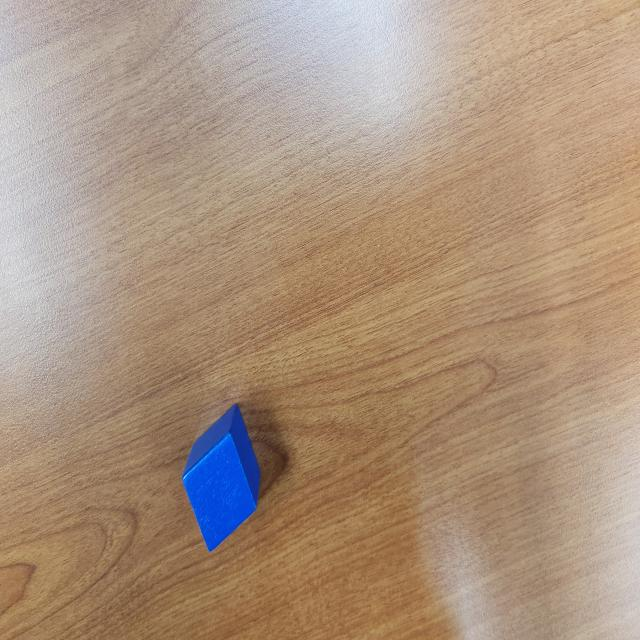blue: (181, 403, 262, 552)
